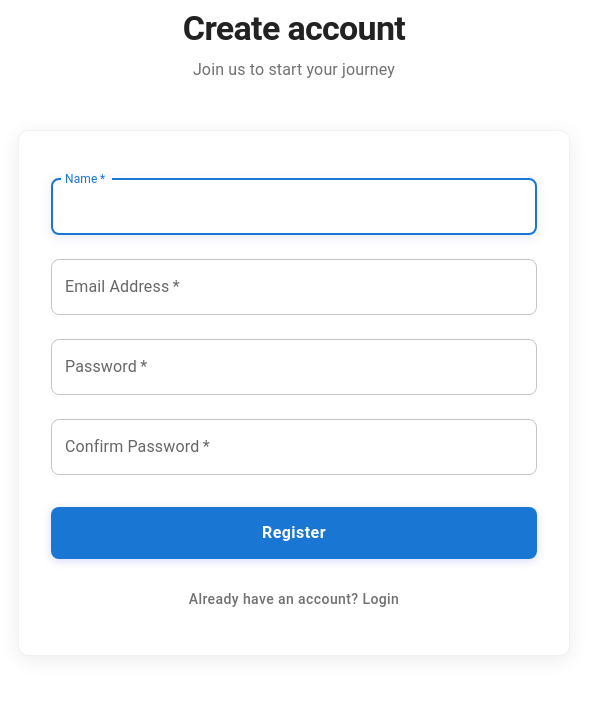
Test case: Register Component › shows error when passwords do not match
Type "John Doe" into the field labelled "Name *" at (294, 207), box [51,179,537,235]
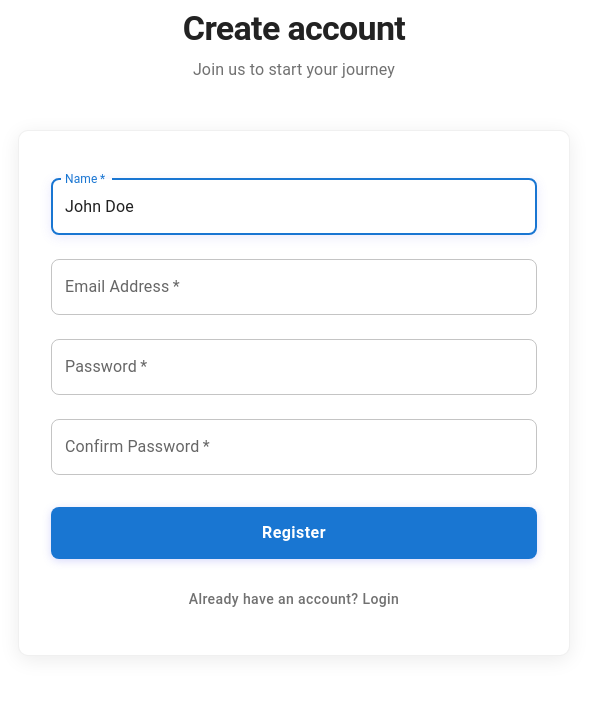
Type "john@example.com" into the field labelled "Email Address *" at (294, 287), box [51,259,537,315]
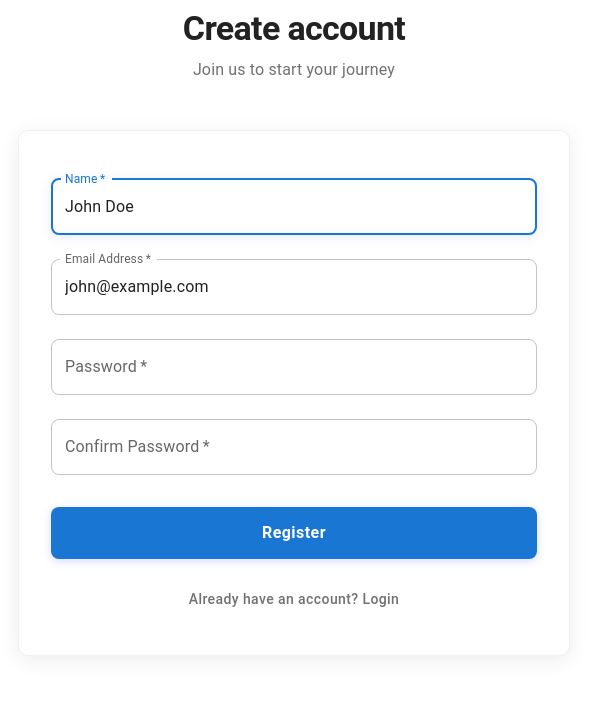
Type "password123" into the password field labelled "Password *" at (294, 367), box [51,339,537,395]
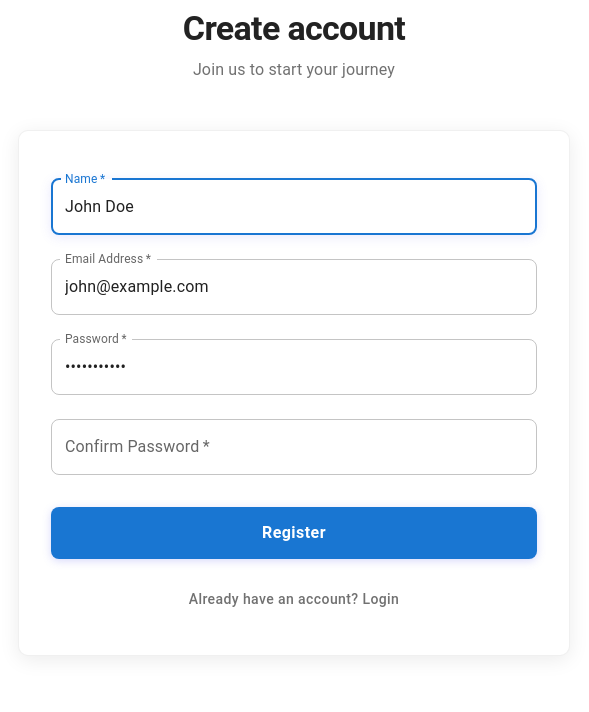
Type "differentpassword" into the password field labelled "Confirm Password *" at (294, 447), box [51,419,537,475]
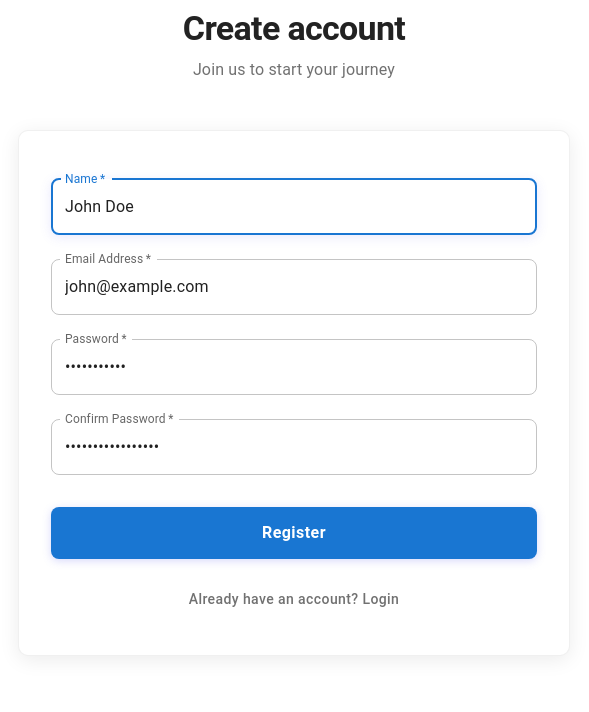
Click the button "Register" at (294, 533), box [51,507,537,559]
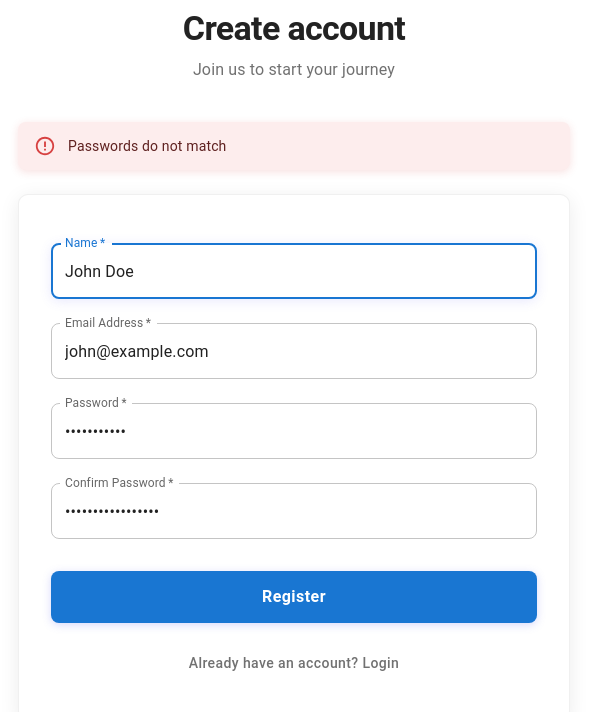
Expected: the text "Passwords do not match" is shown, [68,138,226,154]
